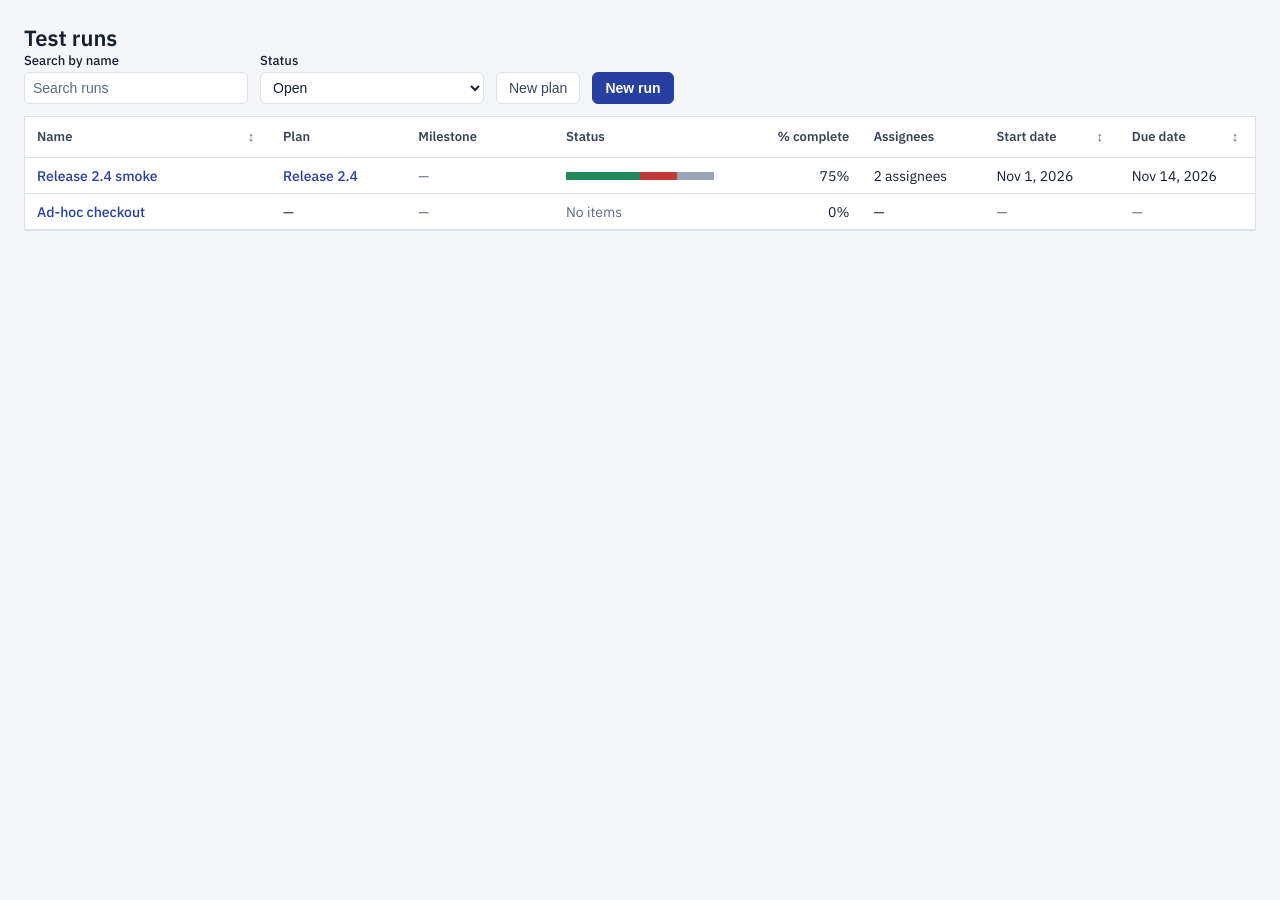
it: runs list › shows a server run_ids error on the attached row
Check: the table named "Test runs" is shown, box 25,117 -> 1255,230
Check: the button "Release 2.4 smoke" is shown, box 37,166 -> 158,186
Click the button "New plan".
click(538, 88)  # box 496,72 -> 580,104
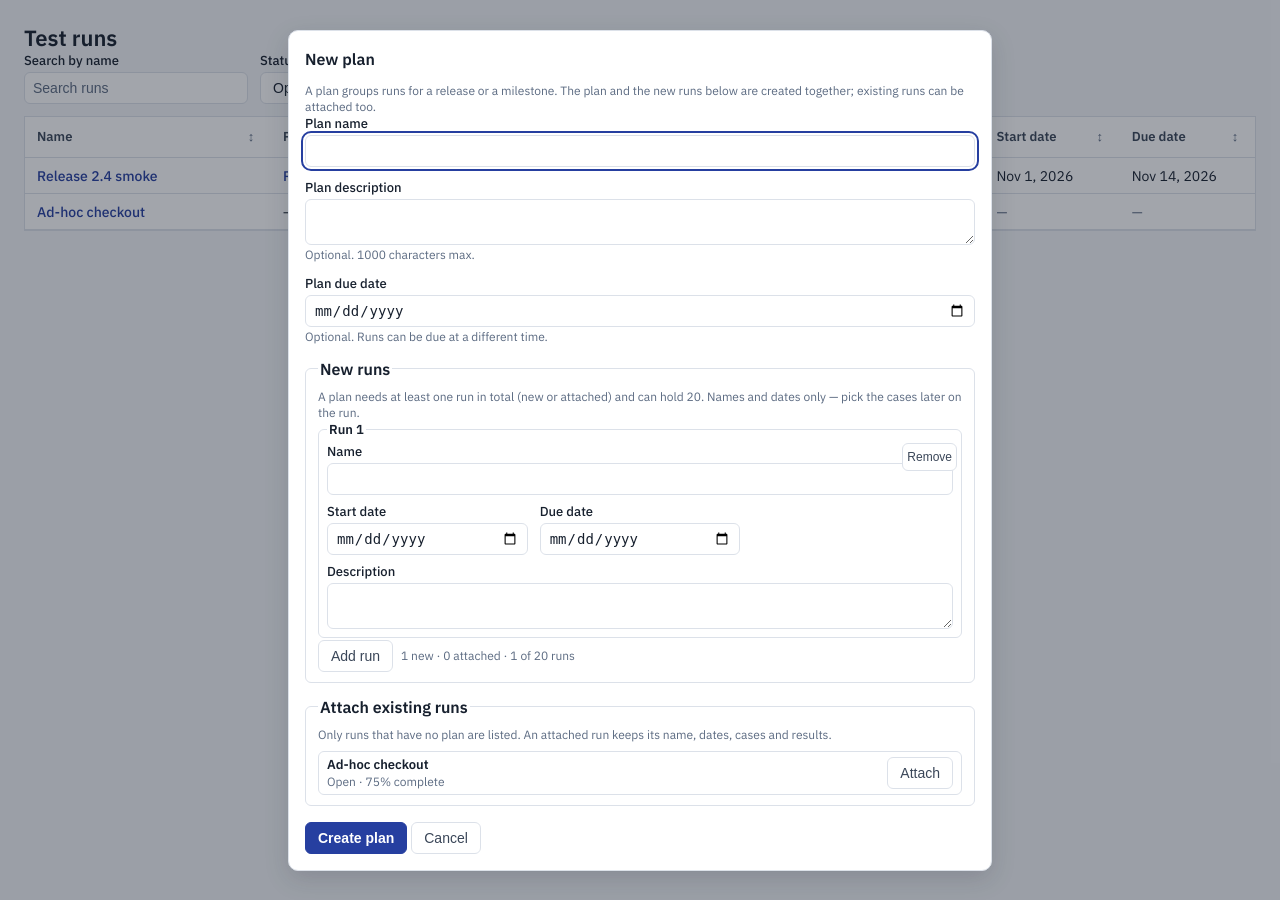
Type "Release 2.5" into the field labelled "Plan name".
click(640, 150); type("Release 2.5")  # box 305,134 -> 975,166
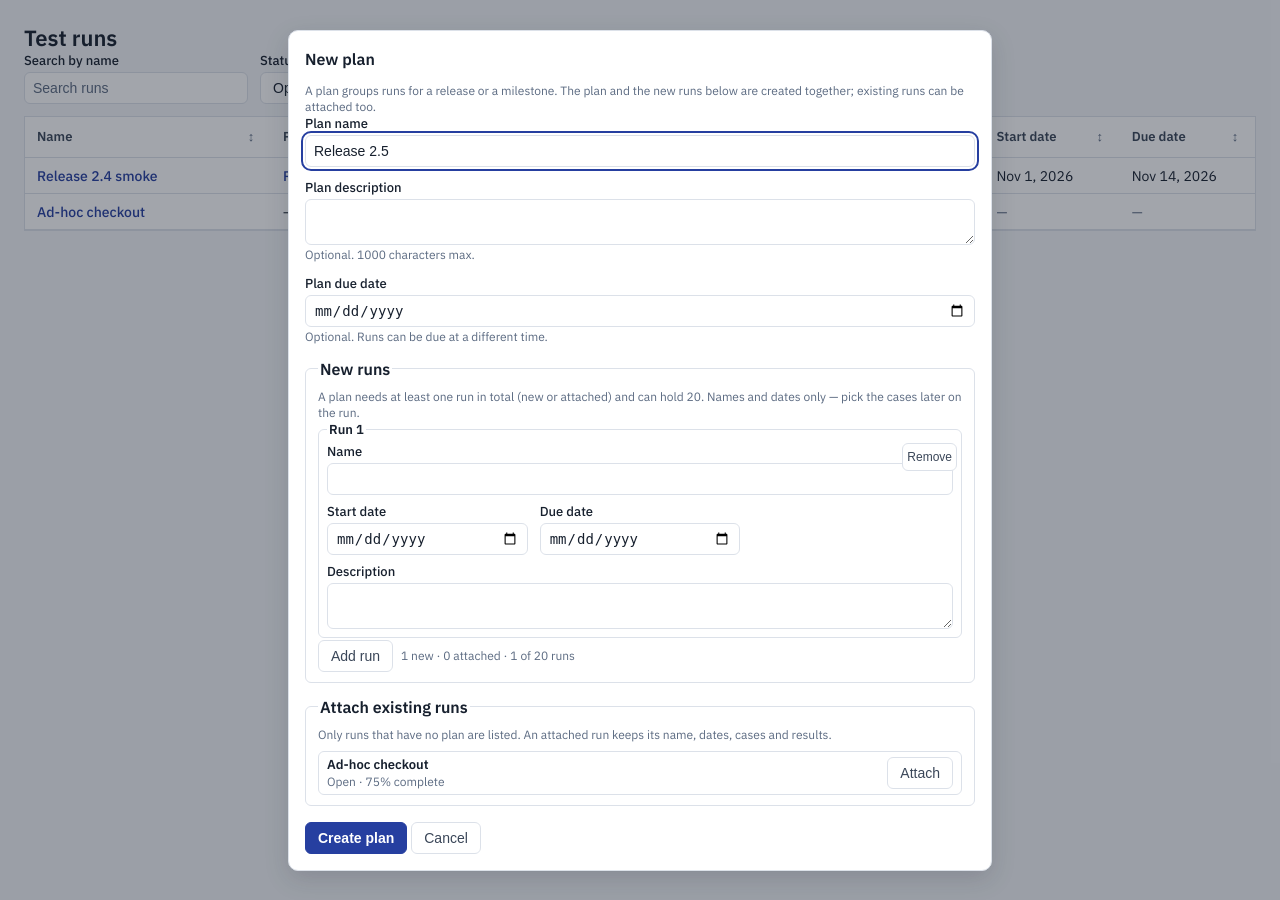
Click the button with aria-label "Attach Ad-hoc checkout".
click(920, 772)  # box 887,756 -> 953,788
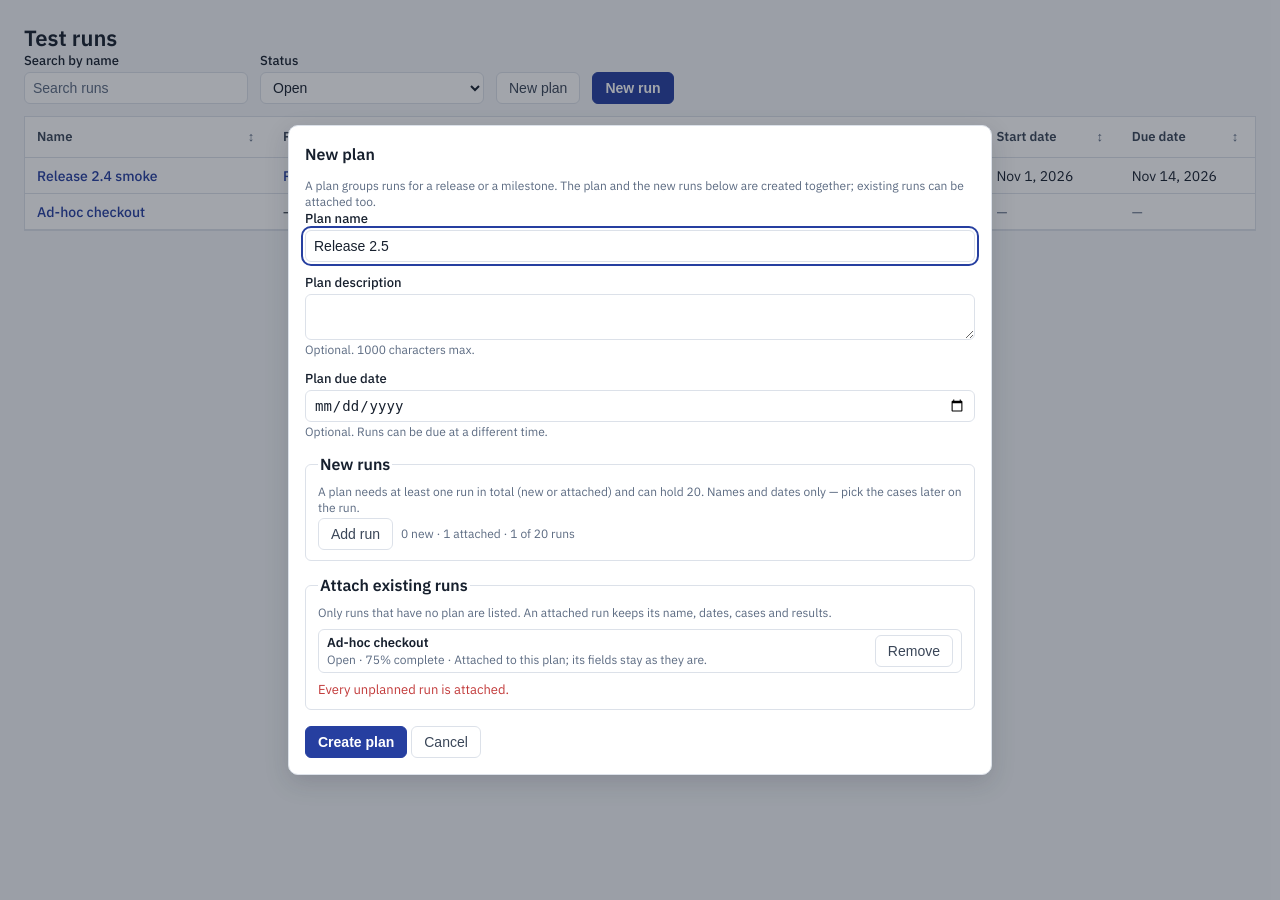
Click the button "Create plan".
click(356, 742)  # box 305,726 -> 407,758
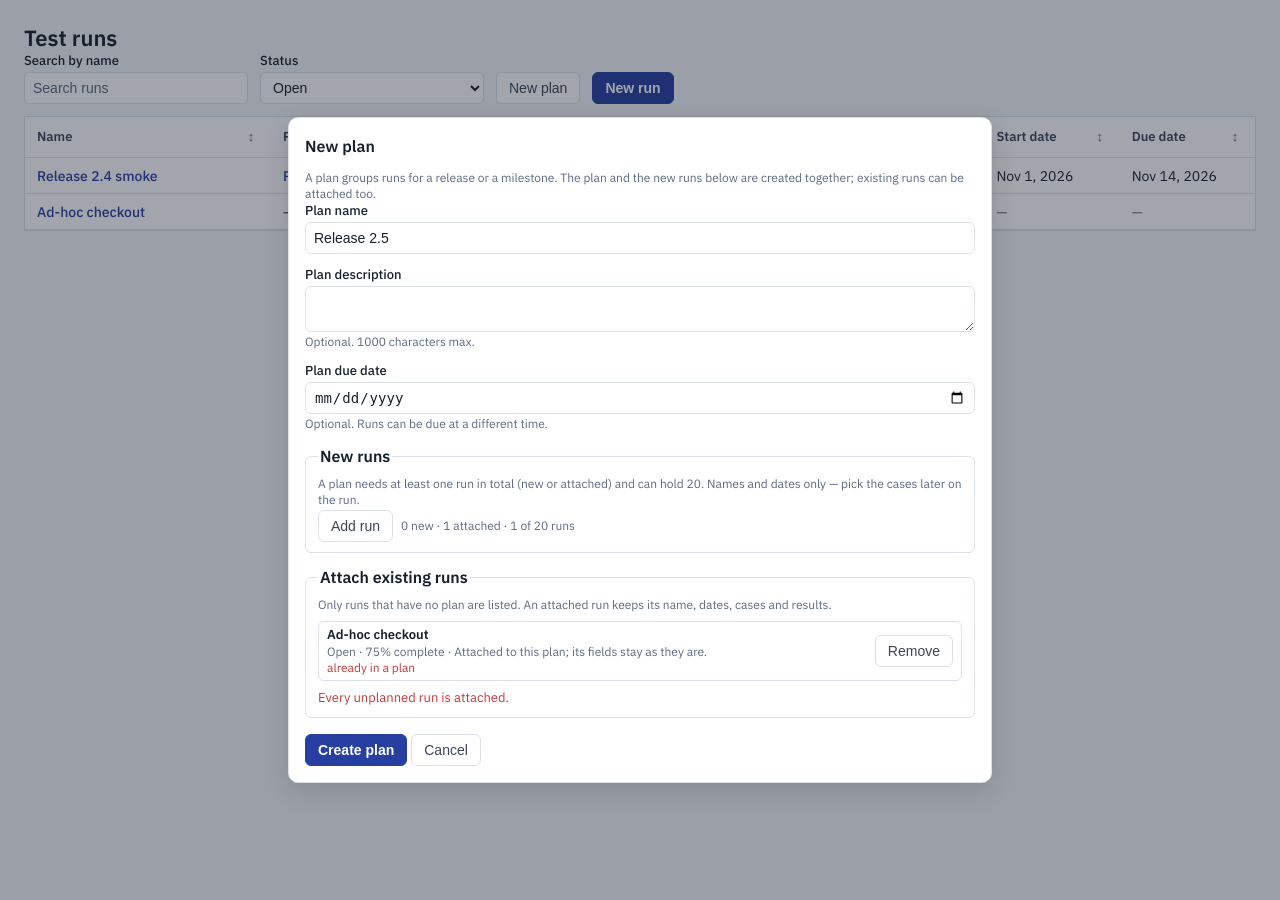
Check: the text "already in a plan" is shown, box 327,660 -> 415,675
